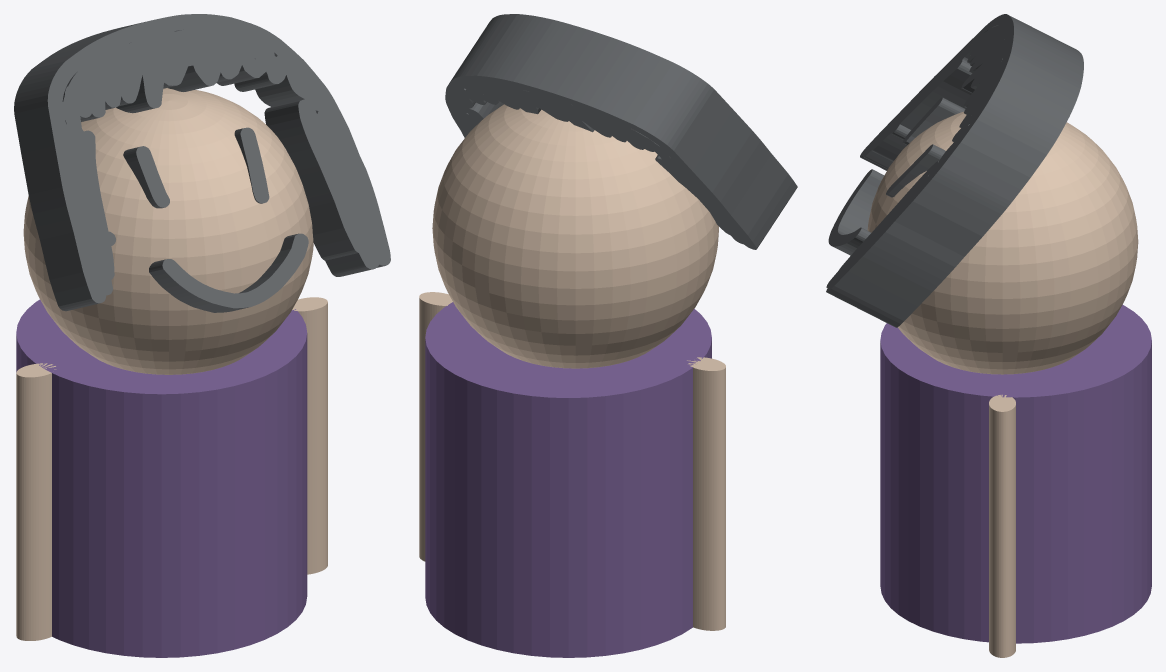
File: girl.glb
The picture shows the model from 3 angles, left to right: view 1: azimuth 30°, elevation 25°; view 2: azimuth 150°, elevation 25°; view 3: azimuth 270°, elevation 25°; orthographic projection. The views are drawn at different scales.
Visible parts, largest first — view 1: Mesh_Mesh_head_geo.001_lambert2SG.001; view 2: Mesh_Mesh_head_geo.001_lambert2SG.001; view 3: Mesh_Mesh_head_geo.001_lambert2SG.001.
Boxes of the visible parts, <box> form: Mesh_Mesh_head_geo.001_lambert2SG.001: <box>14,14,390,657</box>; Mesh_Mesh_head_geo.001_lambert2SG.001: <box>419,14,797,657</box>; Mesh_Mesh_head_geo.001_lambert2SG.001: <box>826,14,1151,657</box>.
Bounding box in the file's own units: 24.5 × 44 × 24.
